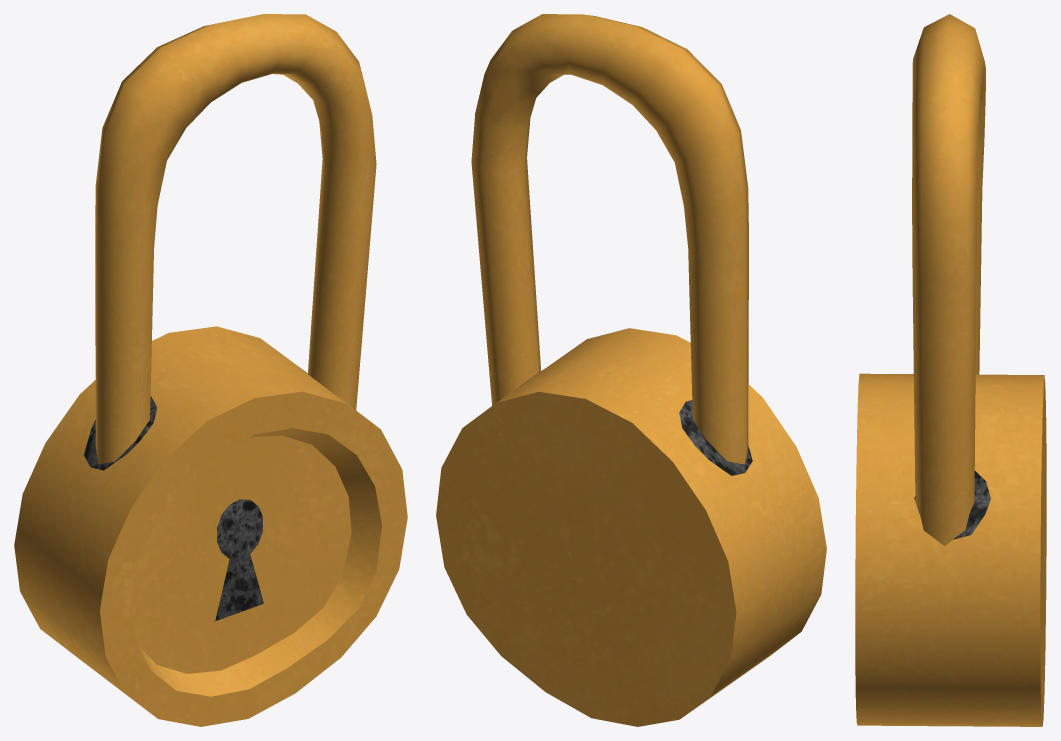
3 renders of one model, left to right at view 1: azimuth 30°, elevation 25°; view 2: azimuth 150°, elevation 25°; view 3: azimuth 270°, elevation 25°, orthographic. The views are drawn at different scales.
Visible parts, largest first — view 1: Object_15, Object_18; view 2: Object_15, Object_18; view 3: Object_15, Object_18.
Boxes of the visible parts, <box> form: Object_15: <box>14,14,407,726</box>; Object_18: <box>83,367,307,621</box>; Object_15: <box>436,14,826,726</box>; Object_18: <box>522,370,752,475</box>; Object_15: <box>855,14,1046,726</box>; Object_18: <box>914,470,990,539</box>.
Size of the model in its own units: 0.1586 by 0.3216 by 0.0805.
2 materials, 2 textured.
